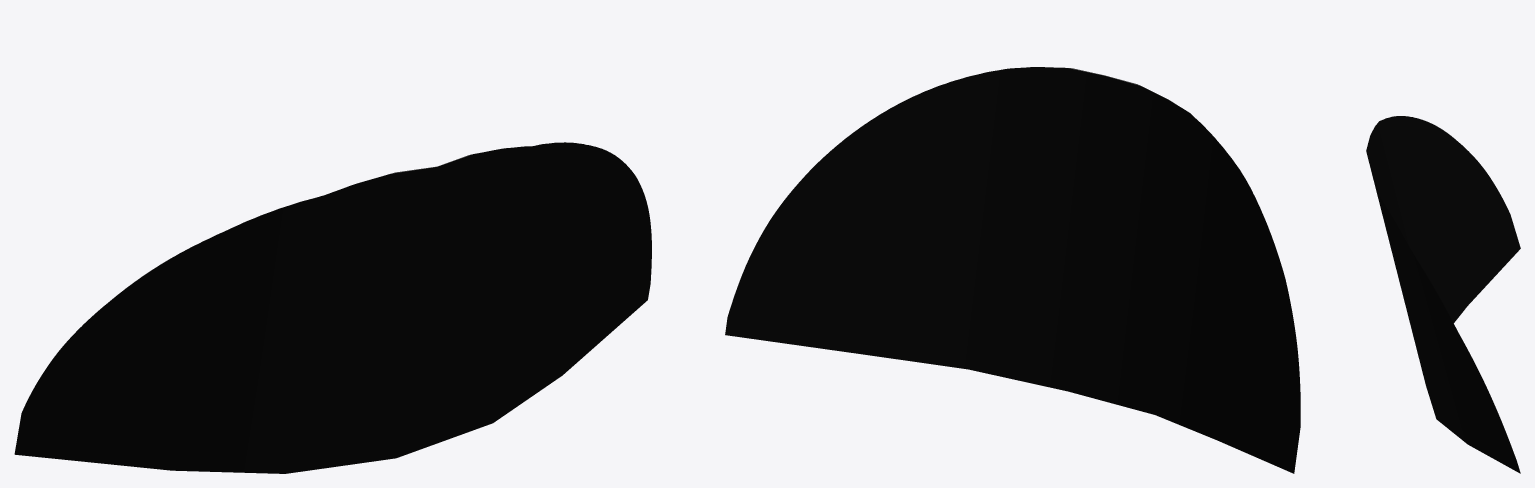
Rendered from mouth.fbx.
3 renders of one model, left to right at view 1: azimuth 30°, elevation 25°; view 2: azimuth 150°, elevation 25°; view 3: azimuth 270°, elevation 25°, orthographic. The views are drawn at different scales.
Visible parts, largest first — view 1: Mouth; view 2: Mouth; view 3: Mouth.
Part boxes in pixels (bbox=[...]): Mouth: bbox=[14, 142, 651, 473]; Mouth: bbox=[725, 67, 1300, 473]; Mouth: bbox=[1366, 116, 1520, 473].
Size of the model in its own units: 11.19 by 5.99 by 3.25.
